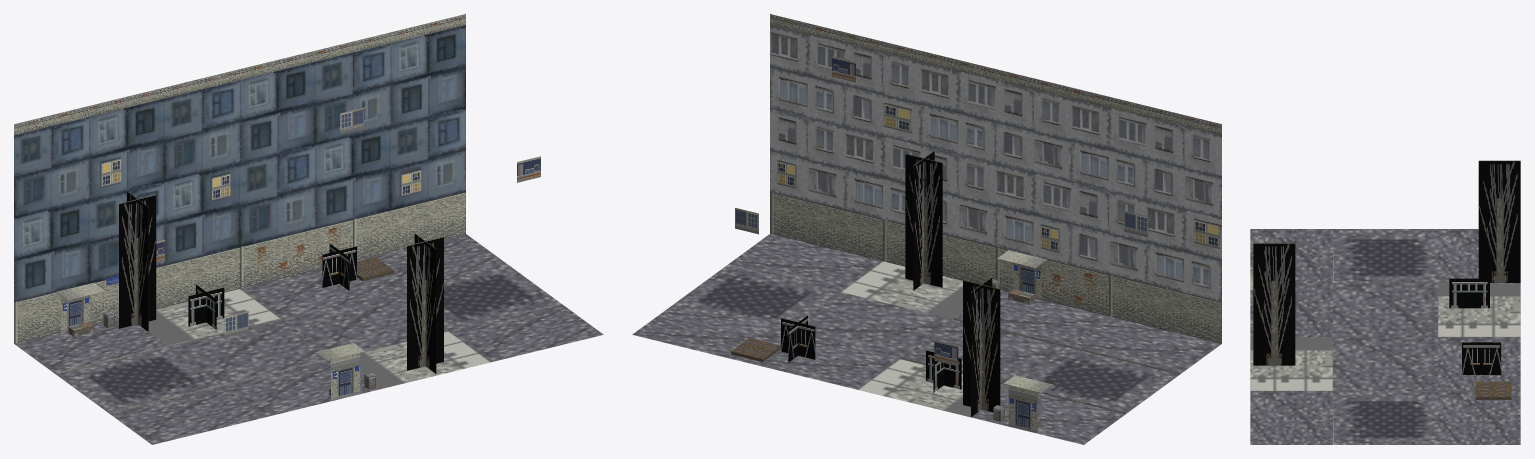
Rendered from street.glb.
The picture shows the model from 3 angles, left to right: view 1: azimuth 30°, elevation 25°; view 2: azimuth 150°, elevation 25°; view 3: azimuth 270°, elevation 25°; orthographic projection. The views are drawn at different scales.
Parts seen in each view (by area): view 1: facade, ground, props; view 2: facade, ground, props; view 3: ground, props.
Part boxes in pixels (<box>): facade: <box>14,14,540,400</box>; ground: <box>14,233,603,444</box>; props: <box>68,191,443,395</box>; facade: <box>735,14,1221,432</box>; ground: <box>632,233,1221,444</box>; props: <box>781,150,1039,427</box>; ground: <box>1250,229,1520,444</box>; props: <box>1253,160,1520,374</box>.
Bounding box in the file's own units: 34 × 15.8 × 18.
Materials: 4 (4 with a texture image).
